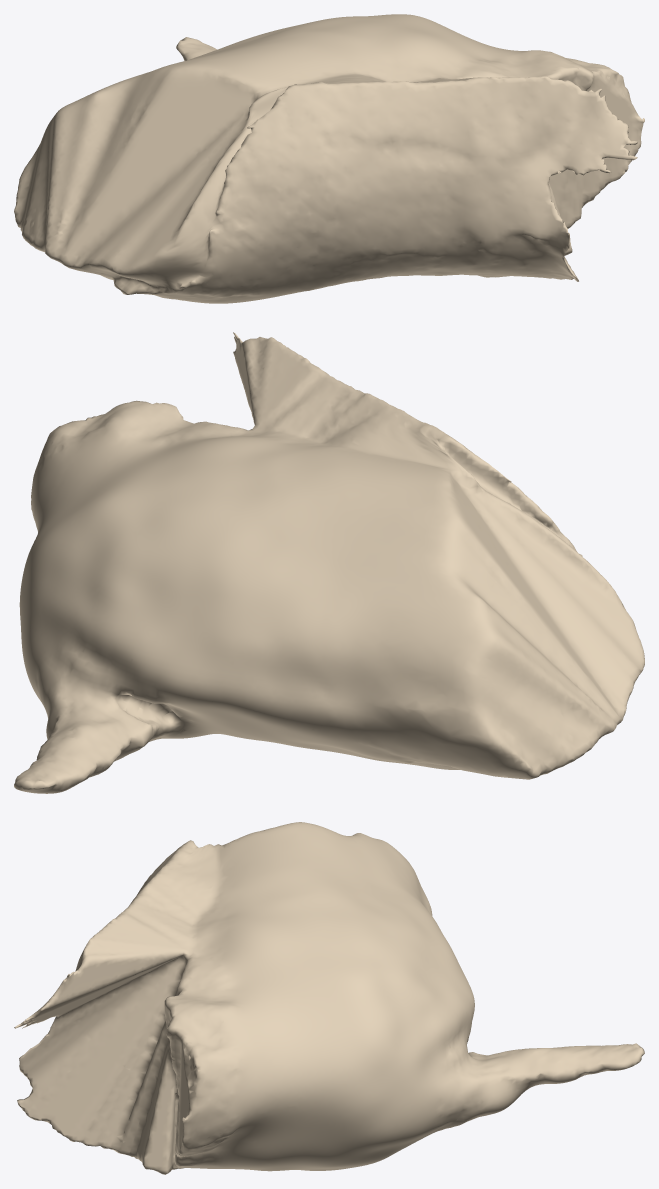
File: billie-solid-10-17.glb
The picture shows the model from 3 angles, top to bottom: view 1: azimuth 30°, elevation 25°; view 2: azimuth 150°, elevation 25°; view 3: azimuth 270°, elevation 25°; orthographic projection. The views are drawn at different scales.
Parts seen in each view (by area): view 1: Bille_Solid_10-17.obj; view 2: Bille_Solid_10-17.obj; view 3: Bille_Solid_10-17.obj.
Part boxes in pixels (x1=…): Bille_Solid_10-17.obj: x1=14, y1=14, x2=644, y2=303; Bille_Solid_10-17.obj: x1=14, y1=332, x2=644, y2=793; Bille_Solid_10-17.obj: x1=14, y1=822, x2=644, y2=1174.
Size of the model in its own units: 500 by 212 by 519.
